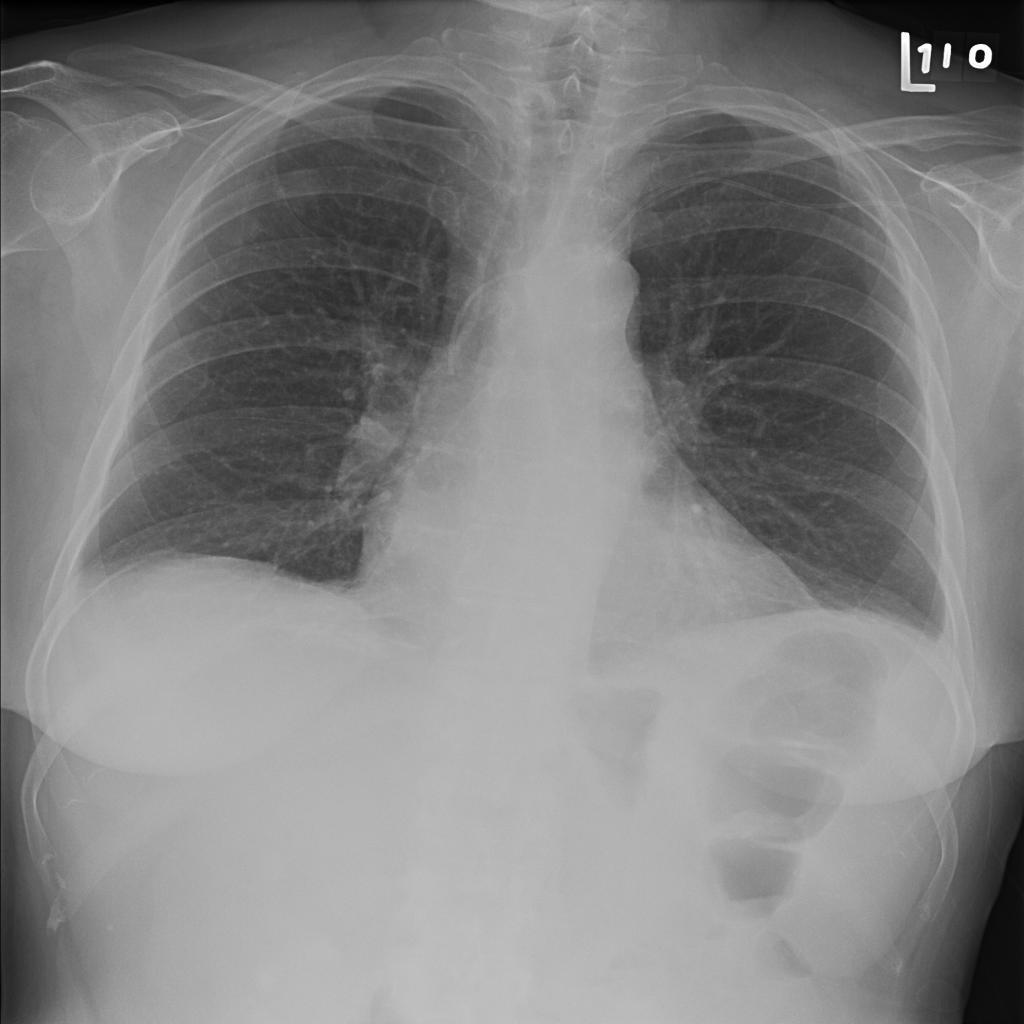Nodule: (472, 267, 562, 349), (153, 75, 203, 118)
